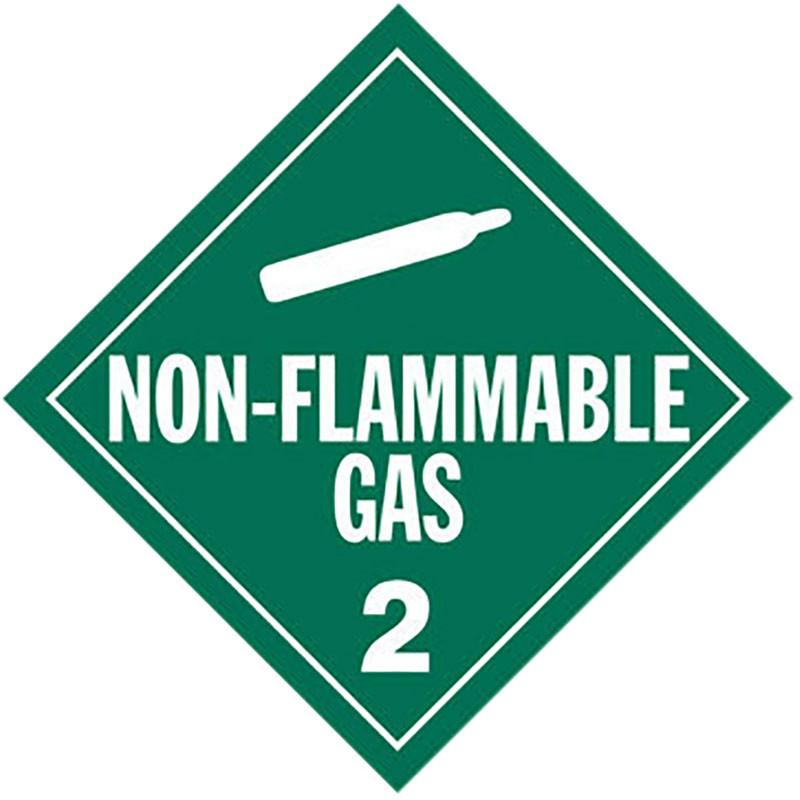non-flammable-gas: (1, 1, 800, 800)
